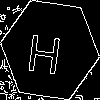H: (25, 25, 65, 75)
